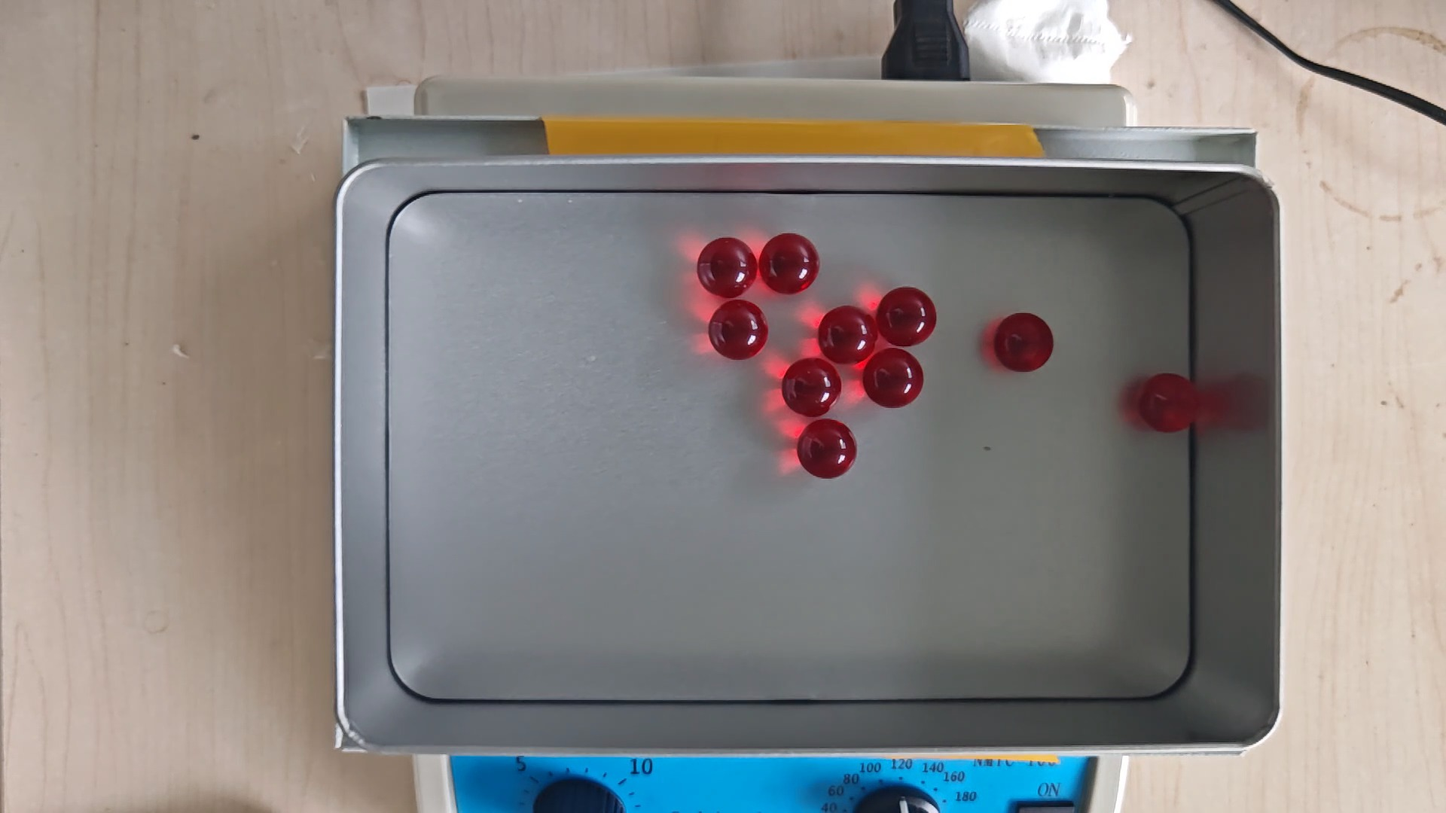ball: (1138, 372, 1199, 435), (697, 236, 758, 298), (797, 418, 857, 480), (708, 299, 768, 361), (994, 312, 1054, 373), (761, 233, 819, 295), (782, 358, 841, 417), (865, 348, 923, 408), (878, 287, 936, 346), (819, 305, 877, 364)
container: (387, 192, 1192, 701)
